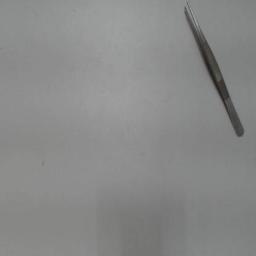Gillies Toothed Dissector: (181, 0, 249, 146)
